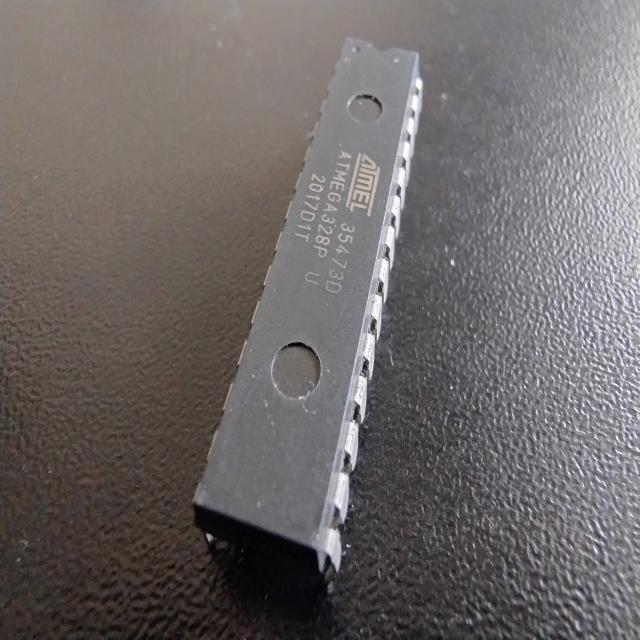atmega: (190, 34, 426, 584)
